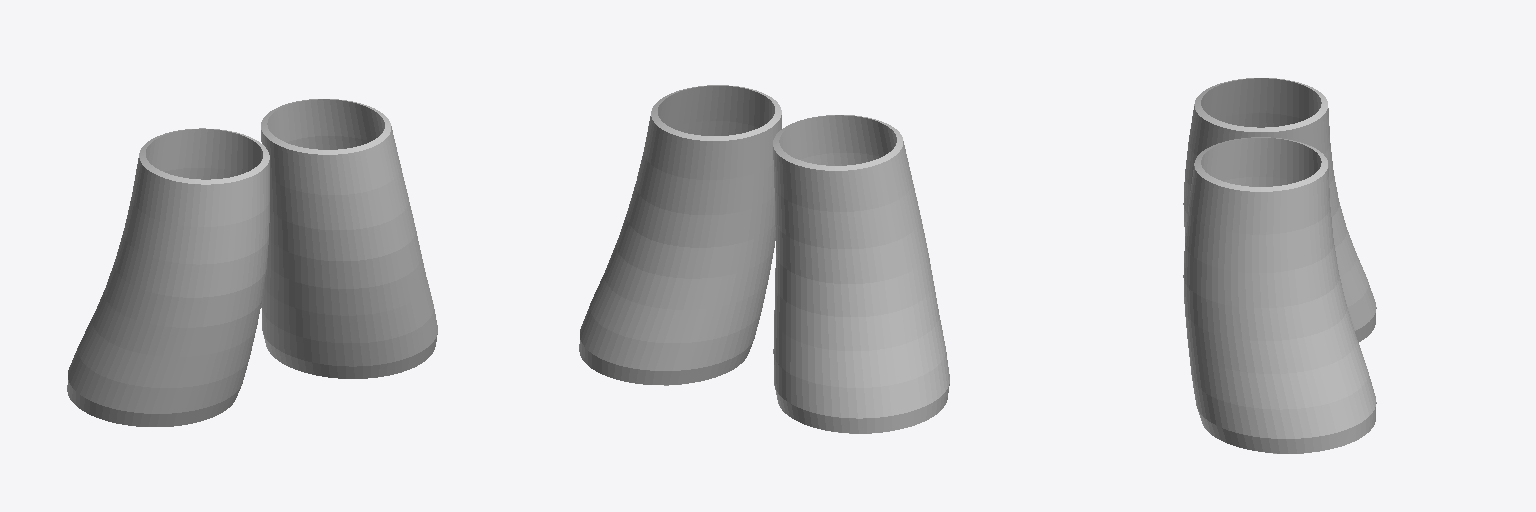
Rendered from F Socks.obj.
3 views of the same model, side by side, from view 1: azimuth 30°, elevation 25°; view 2: azimuth 150°, elevation 25°; view 3: azimuth 270°, elevation 25° (orthographic).
Visible parts, largest first — view 1: Cylinder.000; view 2: Cylinder.000; view 3: Cylinder.000.
Boxes of the visible parts, box(x1,y1,x2,y2) form: Cylinder.000: box(67, 99, 437, 426); Cylinder.000: box(579, 85, 949, 433); Cylinder.000: box(1183, 78, 1376, 453).
Size of the model in its own units: 1.19 by 0.8109 by 0.5752.